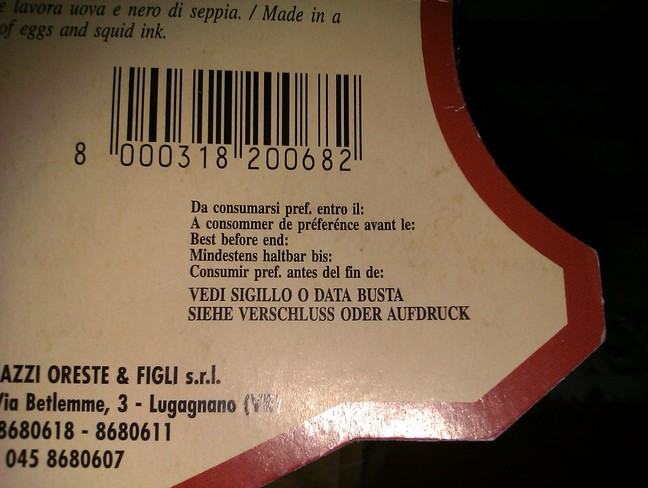barcode: (65, 60, 379, 188)
